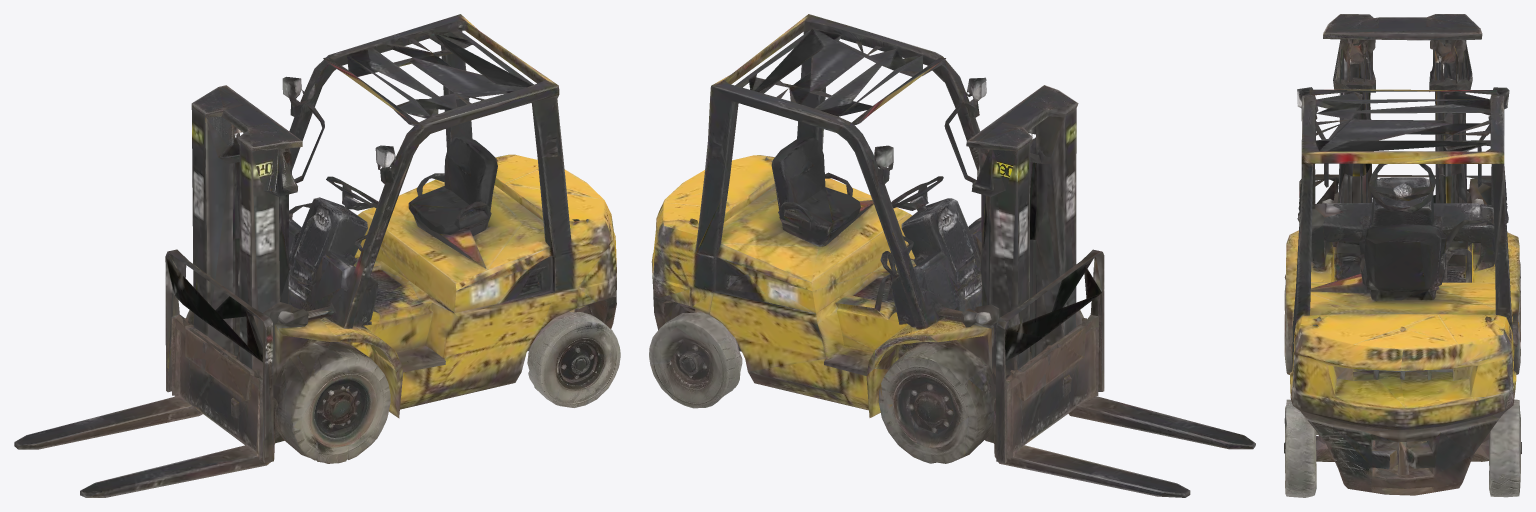
The model's file is forklift.glb.
3 renders of one model, left to right at view 1: azimuth 30°, elevation 25°; view 2: azimuth 150°, elevation 25°; view 3: azimuth 270°, elevation 25°, orthographic. The views are drawn at different scales.
Parts seen in each view (by area): view 1: Mesh_0; view 2: Mesh_0; view 3: Mesh_0.
Boxes of the visible parts, x1=… form: Mesh_0: x1=14, y1=14, x2=620, y2=497; Mesh_0: x1=649, y1=14, x2=1255, y2=497; Mesh_0: x1=1284, y1=14, x2=1521, y2=497.
Size of the model in its own units: 1.9 by 1.05 by 0.684.
1 material, 1 textured.
